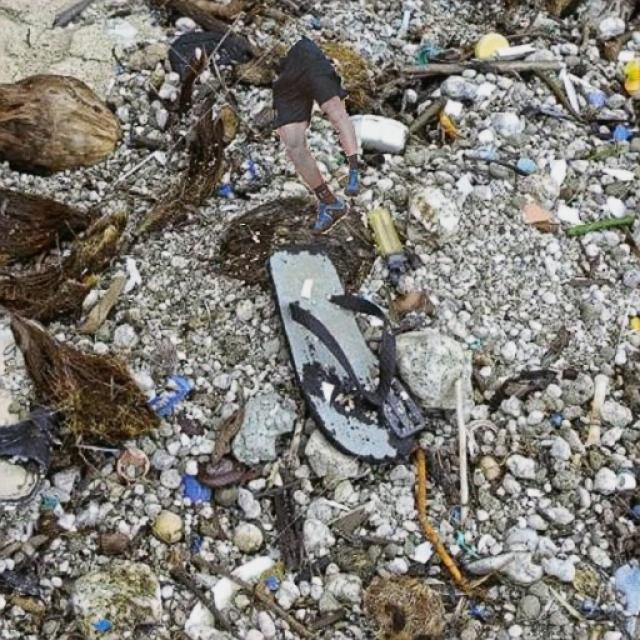Person in Rubble: (272, 35, 356, 233)
